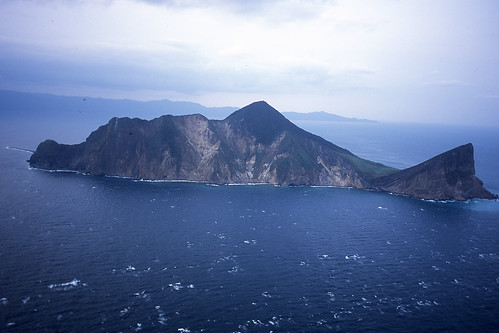turtleIsland: (34, 91, 493, 202)
